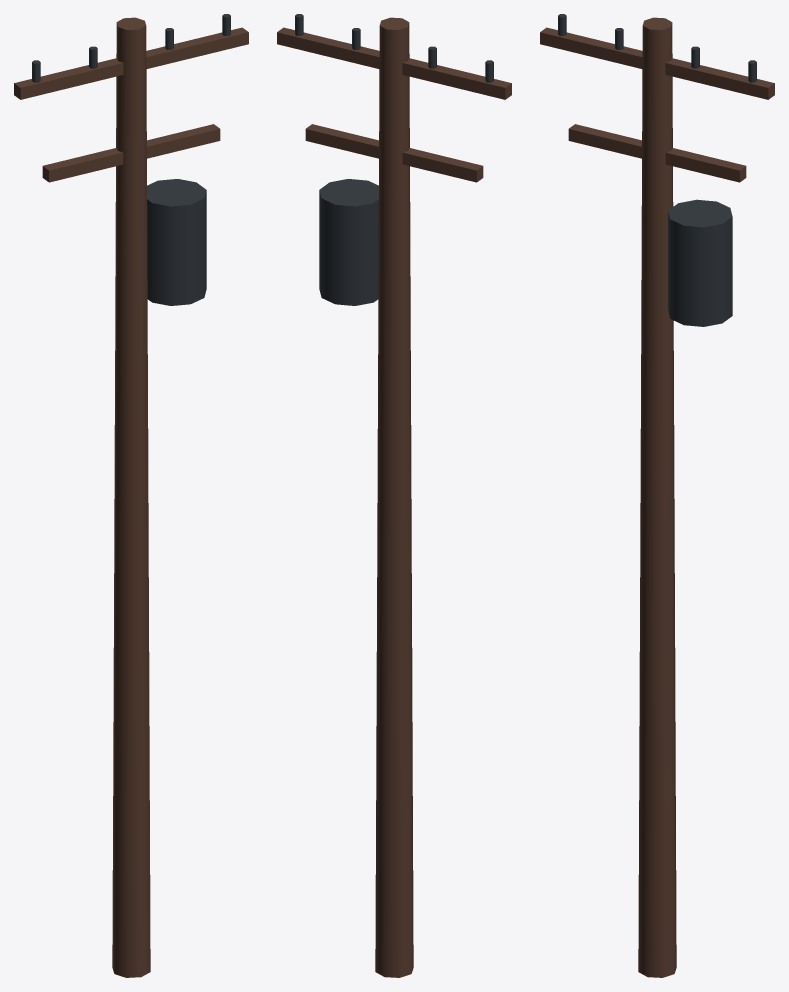
File: power_pole.glb
The picture shows the model from 3 angles, left to right: view 1: azimuth 30°, elevation 25°; view 2: azimuth 150°, elevation 25°; view 3: azimuth 330°, elevation 25°; orthographic projection.
Parts seen in each view (by area): view 1: PowerPole; view 2: PowerPole; view 3: PowerPole.
Boxes of the visible parts, left/top/right/bottom form: PowerPole: left=14, top=14, right=248, bottom=977; PowerPole: left=277, top=14, right=511, bottom=977; PowerPole: left=540, top=14, right=774, bottom=977.
Size of the model in its own units: 2.4 by 9.5 by 0.6.
